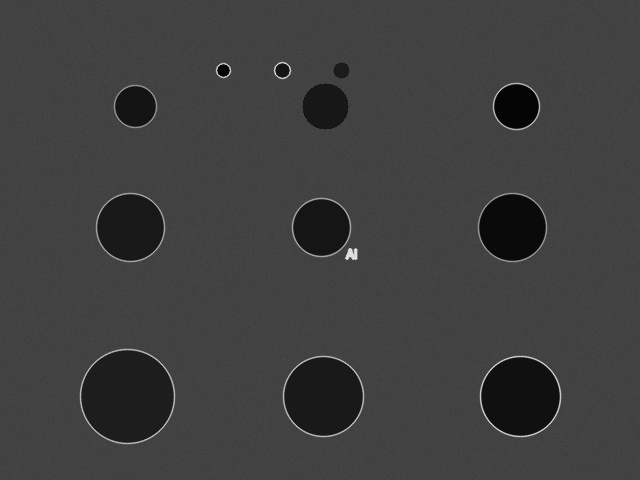hole: (80, 349, 174, 443), (283, 356, 363, 436), (480, 356, 560, 436), (96, 193, 164, 261), (478, 193, 546, 261), (292, 198, 350, 256), (302, 83, 348, 129), (493, 83, 539, 129), (114, 85, 156, 127), (274, 62, 290, 78), (333, 62, 349, 78), (216, 63, 230, 77)
